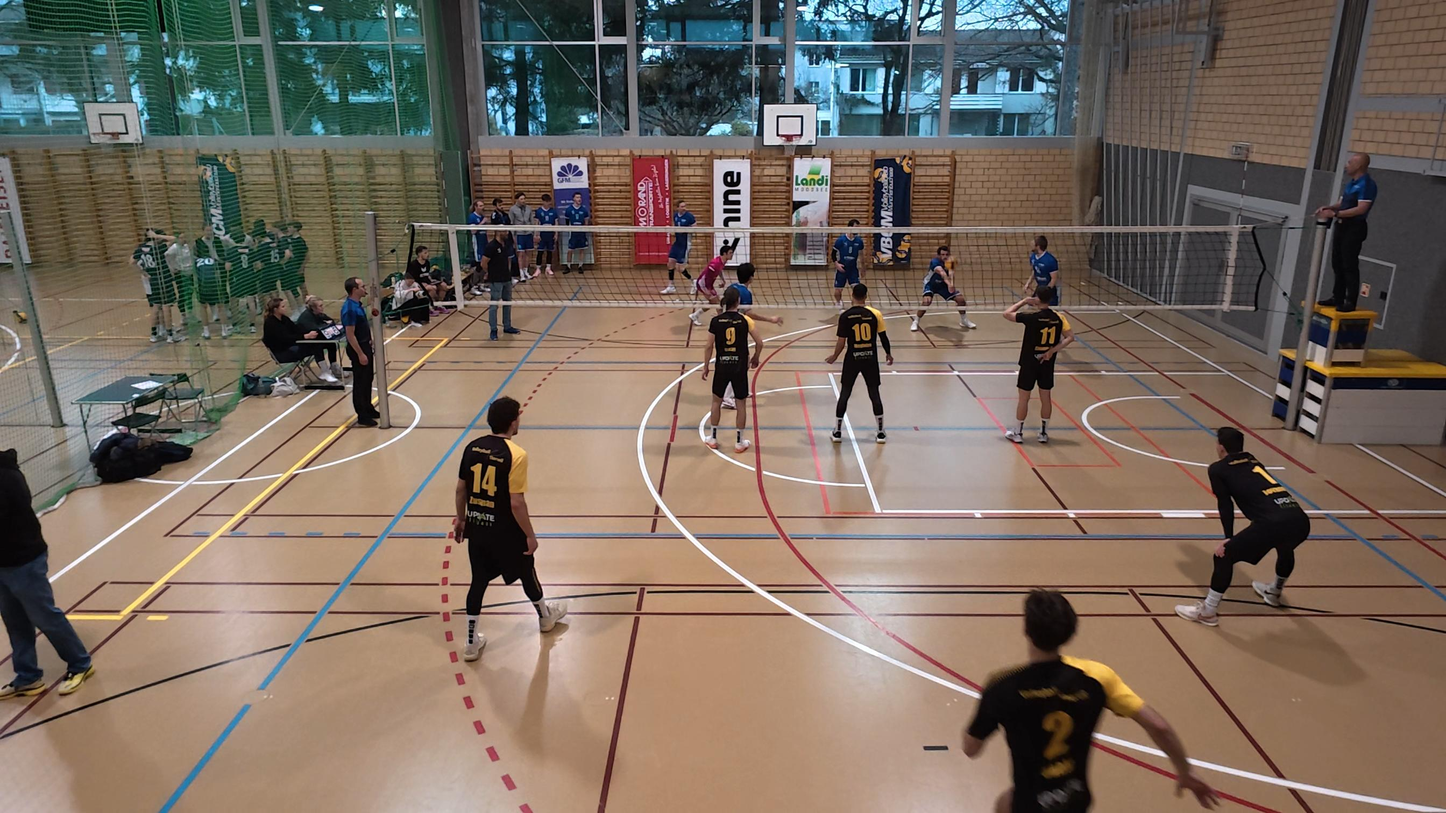Player: (961, 588, 1220, 812), (450, 397, 568, 662), (1178, 426, 1311, 624), (700, 287, 783, 450), (825, 282, 894, 444), (1004, 288, 1072, 444), (688, 235, 739, 329), (825, 218, 865, 316), (662, 197, 696, 295), (1026, 234, 1061, 306)
Receive: (909, 244, 976, 332)
ball: (943, 251, 963, 273)
